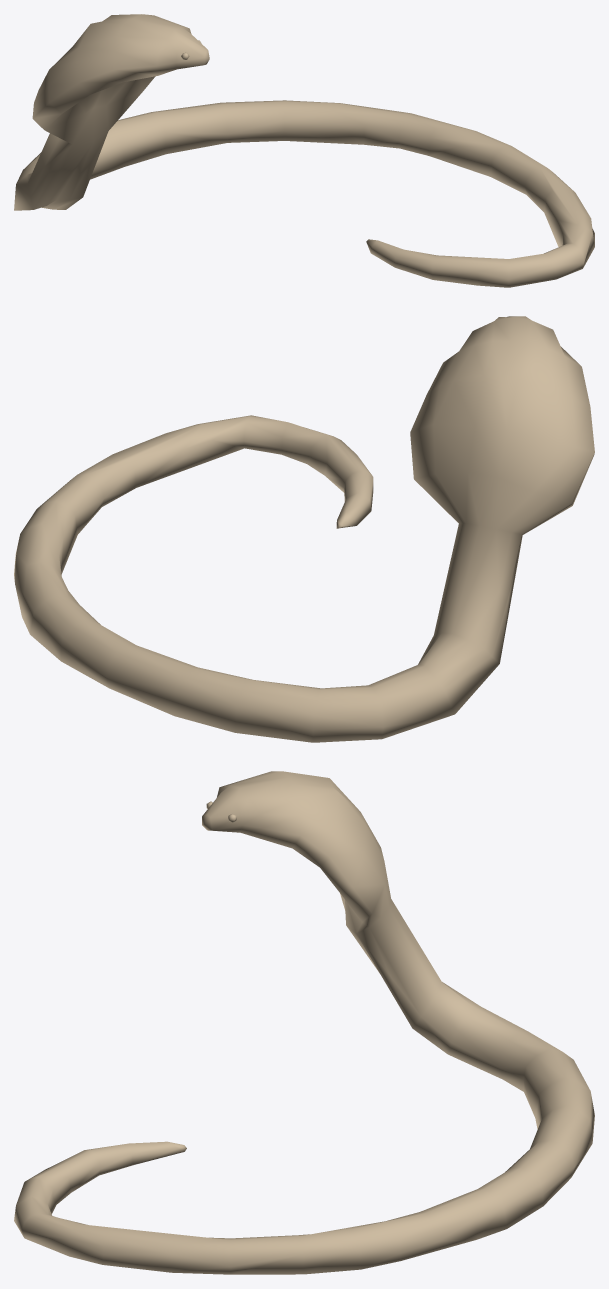
Rendered from huashe.glb.
The picture shows the model from 3 angles, top to bottom: view 1: azimuth 30°, elevation 25°; view 2: azimuth 150°, elevation 25°; view 3: azimuth 270°, elevation 25°; orthographic projection. The views are drawn at different scales.
Parts seen in each view (by area): view 1: Platonic.2; view 2: Platonic.2; view 3: Platonic.2.
Part boxes in pixels (x1,y1,x2,y2): Platonic.2: [14, 14, 594, 287]; Platonic.2: [14, 316, 594, 742]; Platonic.2: [14, 771, 594, 1274].
Size of the model in its own units: 886 by 453 by 832.
